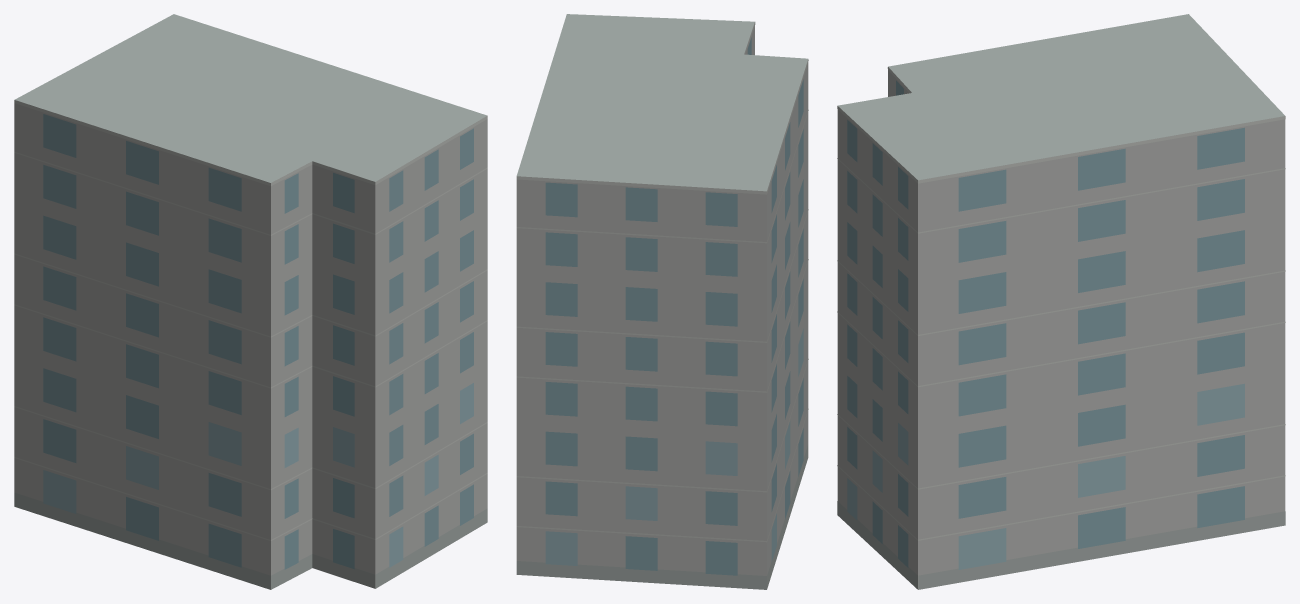
The model's file is survey-upis-32857580.glb.
3 renders of one model, left to right at view 1: azimuth 30°, elevation 25°; view 2: azimuth 150°, elevation 25°; view 3: azimuth 270°, elevation 25°, orthographic. The views are drawn at different scales.
Parts seen in each view (by area): view 1: survey-upis-32857580.tmp; view 2: survey-upis-32857580.tmp; view 3: survey-upis-32857580.tmp.
Boxes of the visible parts, x1,y1,x2,y2 form: survey-upis-32857580.tmp: (14, 14, 487, 589); survey-upis-32857580.tmp: (516, 14, 808, 589); survey-upis-32857580.tmp: (837, 14, 1285, 589).
Size of the model in its own units: 26.25 by 30.1 by 29.86.
